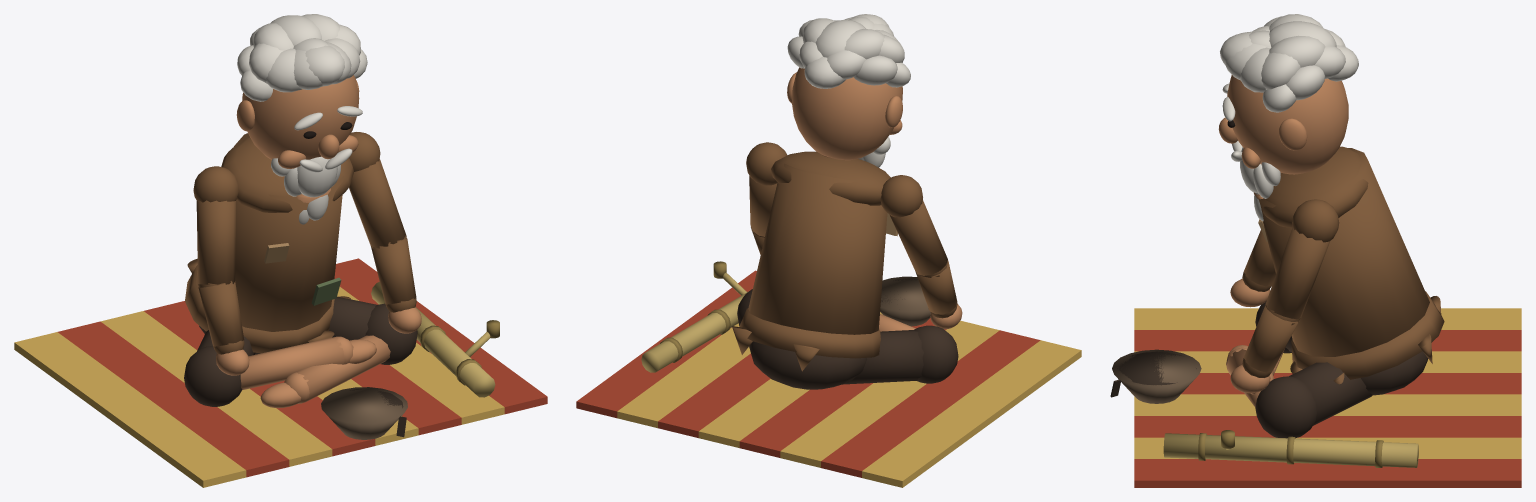
The model's file is lao_hac.glb.
3 renders of one model, left to right at view 1: azimuth 30°, elevation 25°; view 2: azimuth 150°, elevation 25°; view 3: azimuth 270°, elevation 25°, orthographic. The views are drawn at different scales.
Visible parts, largest first — view 1: Lower, Upper, Head, ArmL, ArmR, Bowl, Beard; view 2: Lower, Upper, Head, ArmL, ArmR, Bowl; view 3: Lower, Upper, Head, ArmR, Bowl, ArmL, Beard.
Part boxes in pixels (left/top/right/bottom): Lower: left=14, top=258, right=547, bottom=487; Upper: left=185, top=133, right=354, bottom=353; Head: left=236, top=14, right=367, bottom=168; ArmL: left=193, top=166, right=249, bottom=375; ArmR: left=349, top=132, right=421, bottom=333; Bowl: left=321, top=387, right=407, bottom=439; Beard: left=271, top=148, right=352, bottom=224; Lower: left=576, top=261, right=1081, bottom=487; Upper: left=732, top=151, right=897, bottom=371; Head: left=787, top=14, right=910, bottom=160; ArmL: left=880, top=175, right=962, bottom=329; ArmR: left=746, top=142, right=787, bottom=254; Bowl: left=880, top=276, right=930, bottom=326; Lower: left=1134, top=301, right=1521, bottom=487; Upper: left=1253, top=146, right=1444, bottom=384; Head: left=1218, top=14, right=1358, bottom=174; ArmR: left=1230, top=199, right=1339, bottom=393; Bowl: left=1110, top=349, right=1201, bottom=403; ArmL: left=1230, top=230, right=1275, bottom=307; Beard: left=1231, top=141, right=1280, bottom=221.
Bounding box in the file's own units: 1 × 1.02 × 1.01.
